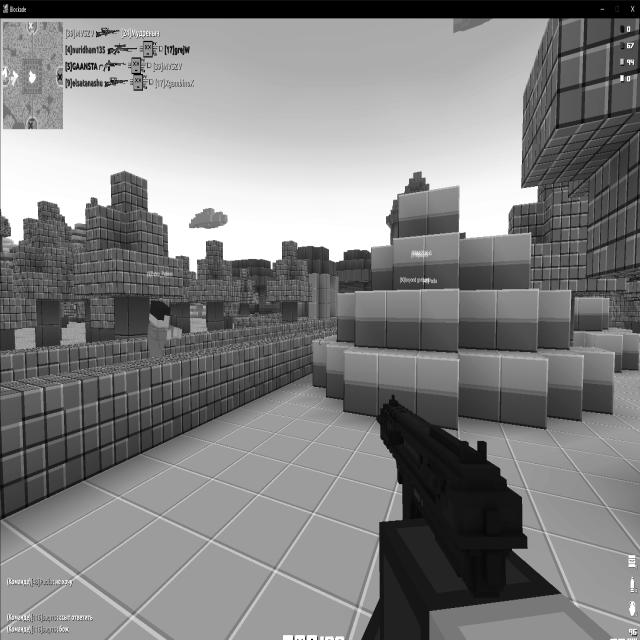Head: (148, 299, 171, 330)
Player: (146, 298, 183, 358)
